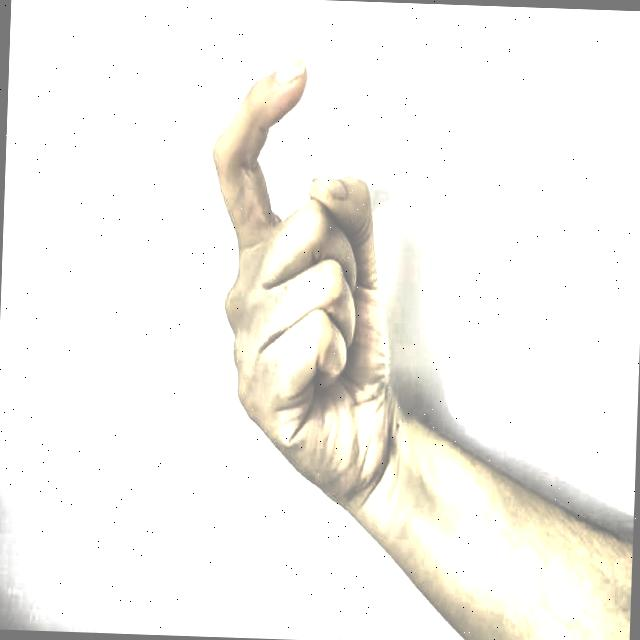E: (175, 31, 464, 530)
